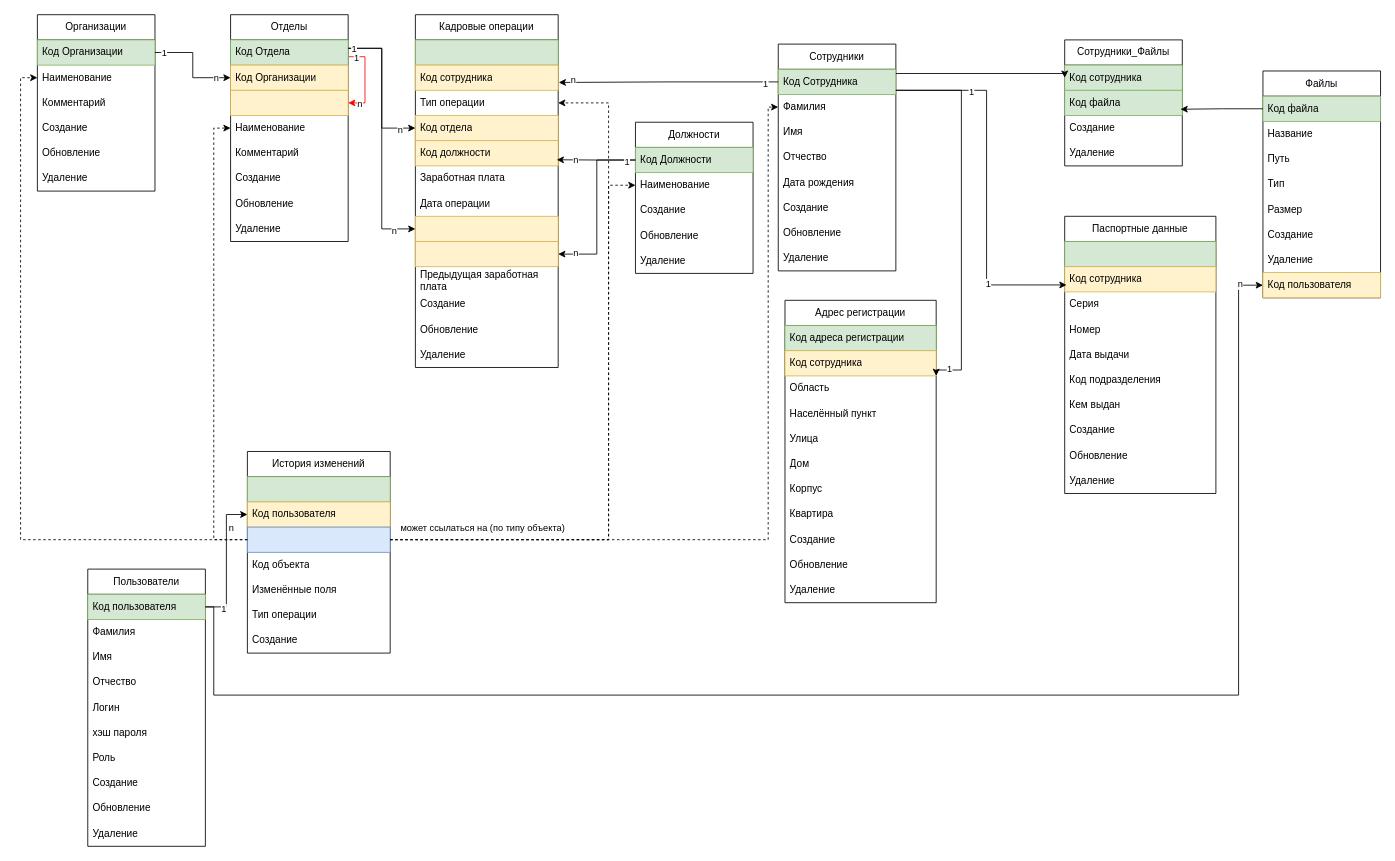
Image size: 1395x861. Some labels were removed from this diagram. Here are the shapes that lost their labels. From the top down, the centre of each, then its label:
At pixel 486 52: "Код кадровой операции".
At pixel 289 102: "Код Родителя".
At pixel 486 228: "Код предыдущего отдела работы".
At pixel 486 254: "Код предыдущей должности".
At pixel 1140 254: "Код паспортных данных".
At pixel 318 489: "Код истории изменений".
At pixel 318 539: "Тип объекта".
